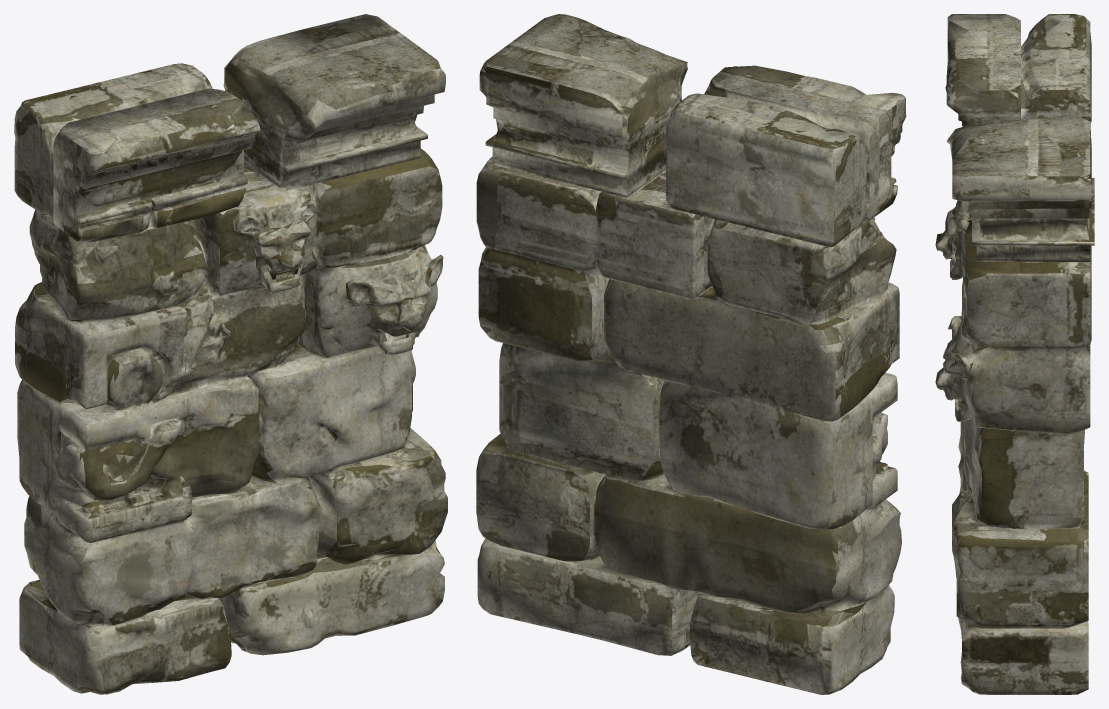
File: wall_2.glb
3 renders of one model, left to right at view 1: azimuth 30°, elevation 25°; view 2: azimuth 150°, elevation 25°; view 3: azimuth 270°, elevation 25°, orthographic. The views are drawn at different scales.
Visible parts, largest first — view 1: mesh_rep_0_ori_repair_StoneWall1_0; view 2: mesh_rep_0_ori_repair_StoneWall1_0; view 3: mesh_rep_0_ori_repair_StoneWall1_0.
Part boxes in pixels (x1,y1,x2,y2): mesh_rep_0_ori_repair_StoneWall1_0: (14,14,447,694); mesh_rep_0_ori_repair_StoneWall1_0: (476,14,906,694); mesh_rep_0_ori_repair_StoneWall1_0: (935,14,1094,694).
Bounding box in the file's own units: 0.674 × 0.9778 × 0.2726.
1 material, 1 textured.
